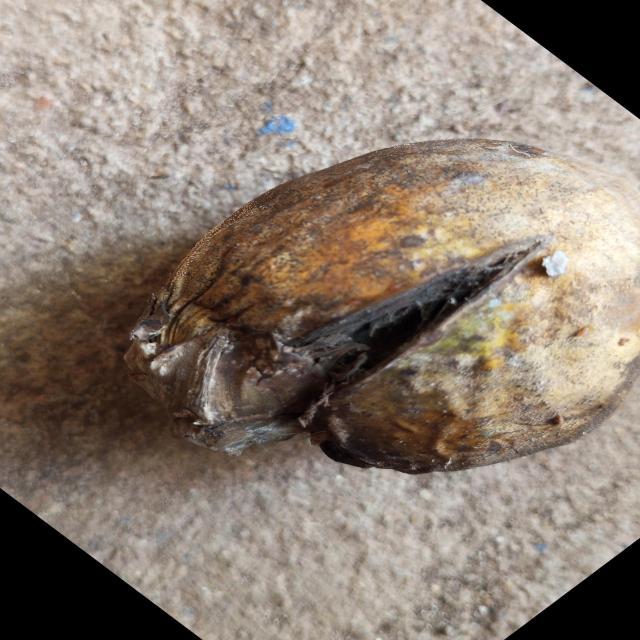damaged: (126, 140, 640, 474)
